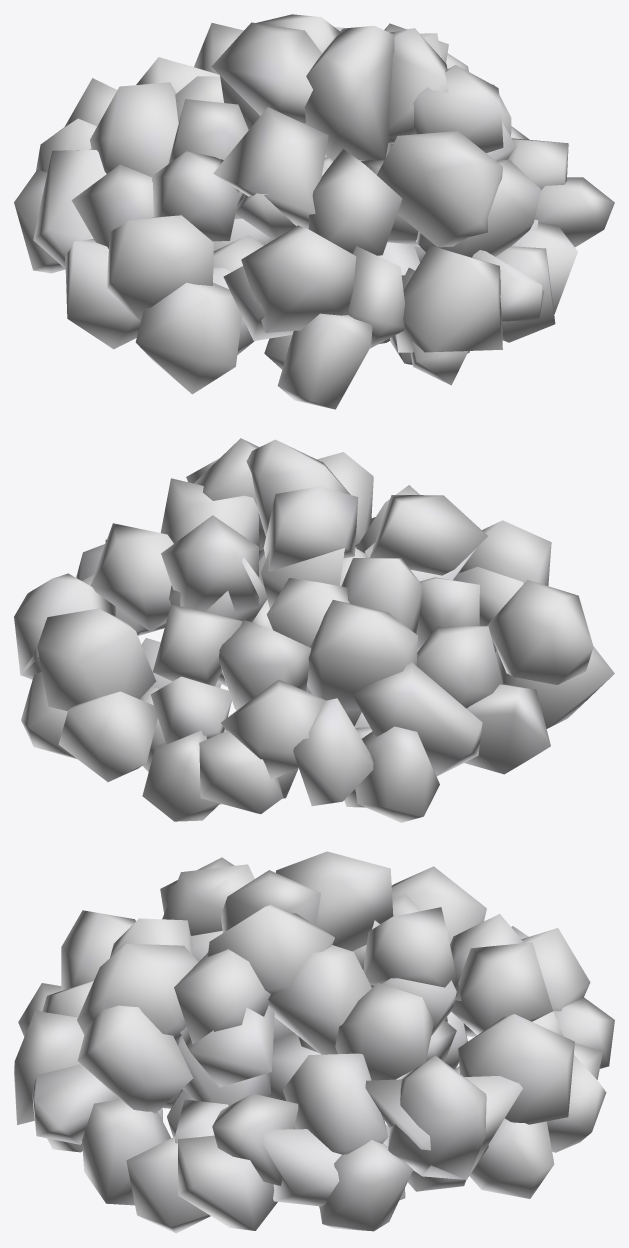
File: meshy-cloud.glb
3 renders of one model, top to bottom at view 1: azimuth 30°, elevation 25°; view 2: azimuth 150°, elevation 25°; view 3: azimuth 270°, elevation 25°, orthographic. The views are drawn at different scales.
Size of the model in its own units: 0.9916 by 0.5594 by 1.
1 material, 1 textured.
